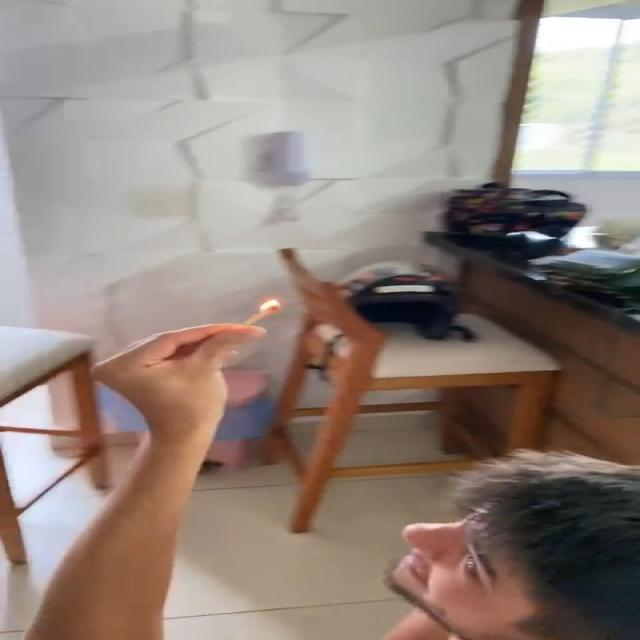fire: (258, 294, 282, 318)
